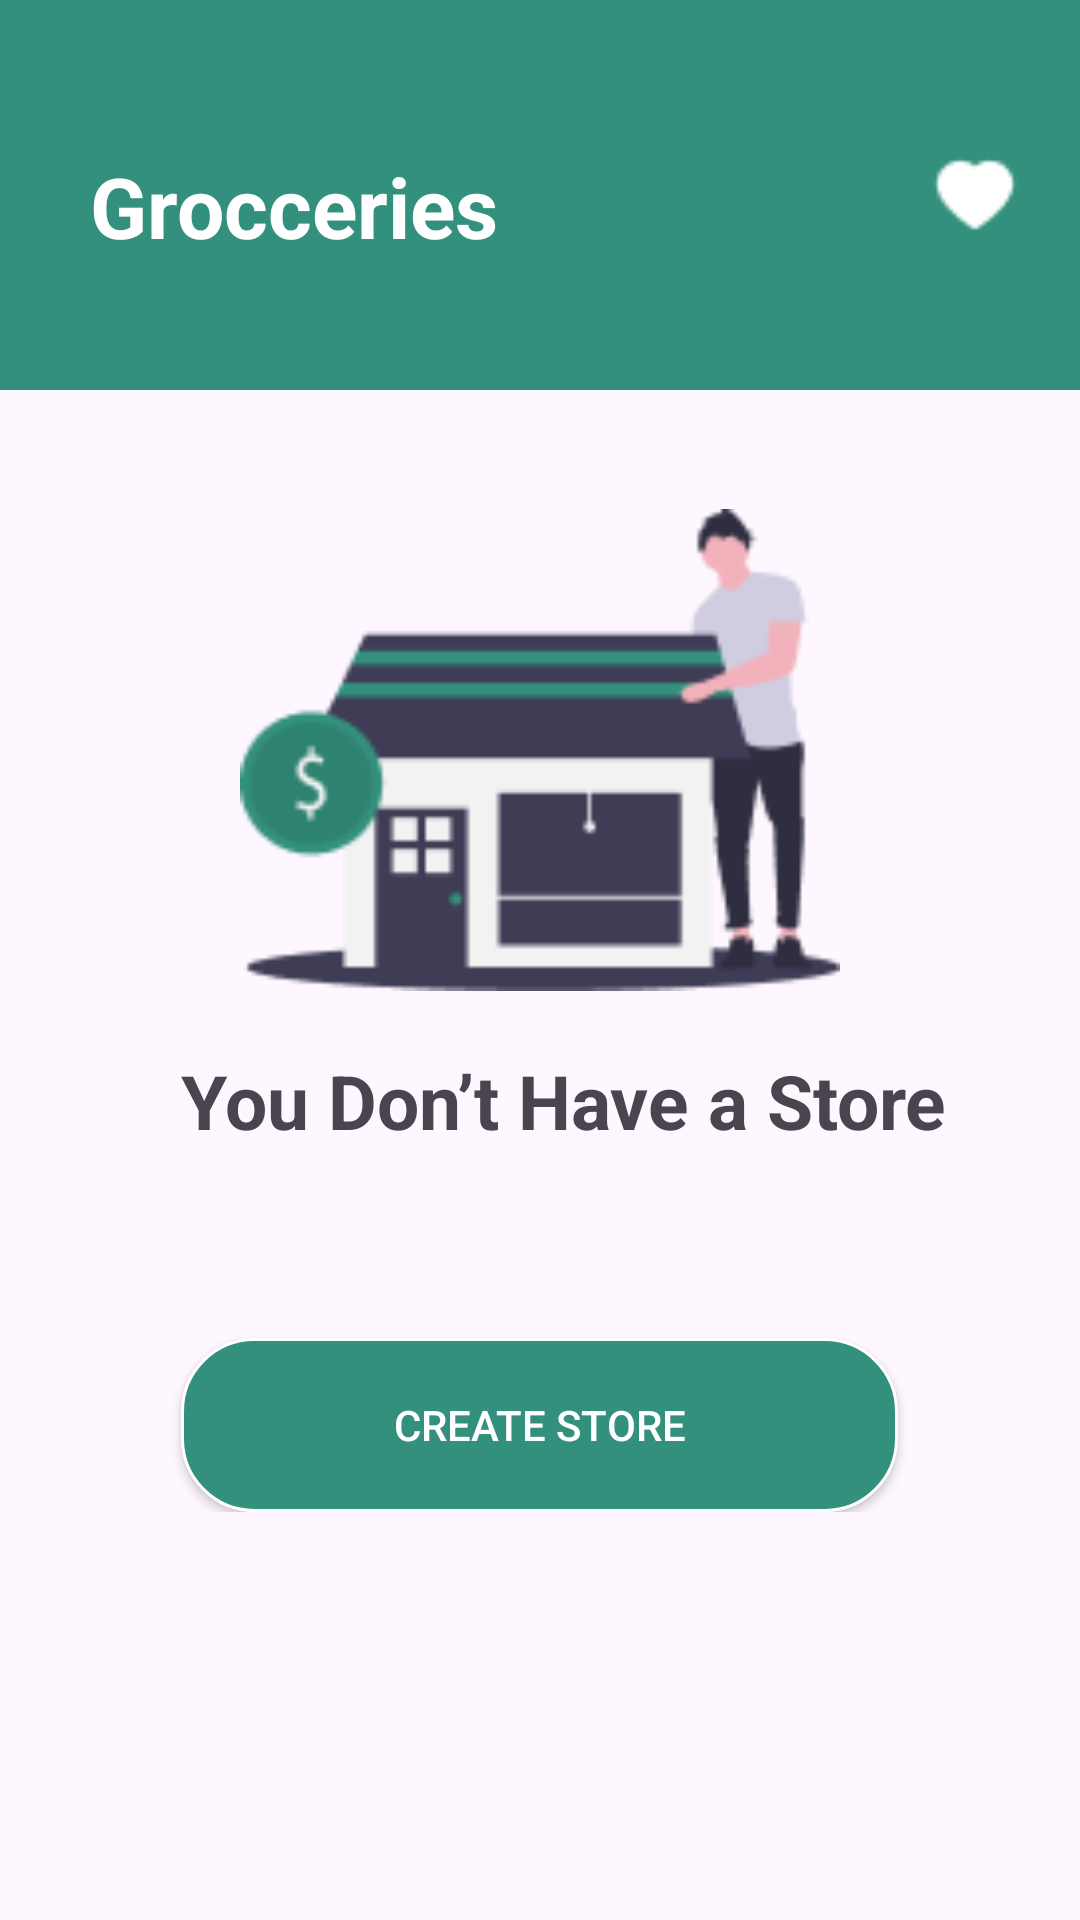

Icon click points for this 1080*1920 phone screenshot, format (x=x, y=y):
love: (x=975, y=195)
